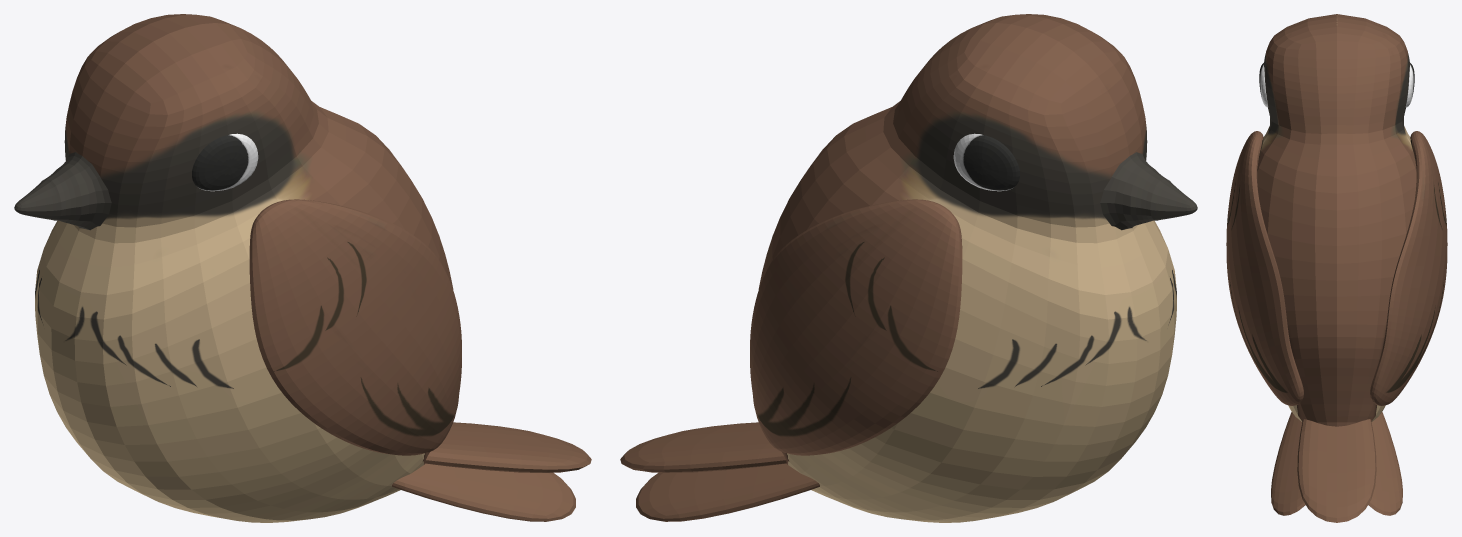
File: Chumchuq.fbx
3 renders of one model, left to right at view 1: azimuth 30°, elevation 25°; view 2: azimuth 150°, elevation 25°; view 3: azimuth 270°, elevation 25°, orthographic. The views are drawn at different scales.
Visible parts, largest first — view 1: Plane, Plane.001, Plane.005, Plane.004, Plane.003, Plane.002; view 2: Plane, Plane.001, Plane.005, Plane.004, Plane.003, Plane.002; view 3: Plane, Plane.001, Plane.004, Plane.005, Plane.002.
Part boxes in pixels (x1=…): Plane: x1=35, y1=14, x2=453, y2=522; Plane.001: x1=249, y1=199, x2=461, y2=455; Plane.005: x1=392, y1=463, x2=575, y2=521; Plane.004: x1=425, y1=422, x2=591, y2=472; Plane.003: x1=14, y1=152, x2=111, y2=230; Plane.002: x1=192, y1=133, x2=258, y2=191; Plane: x1=758, y1=14, x2=1176, y2=522; Plane.001: x1=750, y1=199, x2=962, y2=455; Plane.005: x1=636, y1=463, x2=819, y2=521; Plane.004: x1=620, y1=422, x2=786, y2=472; Plane.003: x1=1100, y1=152, x2=1197, y2=230; Plane.002: x1=953, y1=133, x2=1019, y2=191; Plane: x1=1257, y1=14, x2=1416, y2=426; Plane.001: x1=1226, y1=131, x2=1447, y2=405; Plane.004: x1=1297, y1=419, x2=1376, y2=522; Plane.005: x1=1271, y1=412, x2=1402, y2=515; Plane.002: x1=1259, y1=63, x2=1414, y2=107.
Size of the model in its own units: 0.2763 by 0.2495 by 0.1328.
5 materials, 5 textured.
